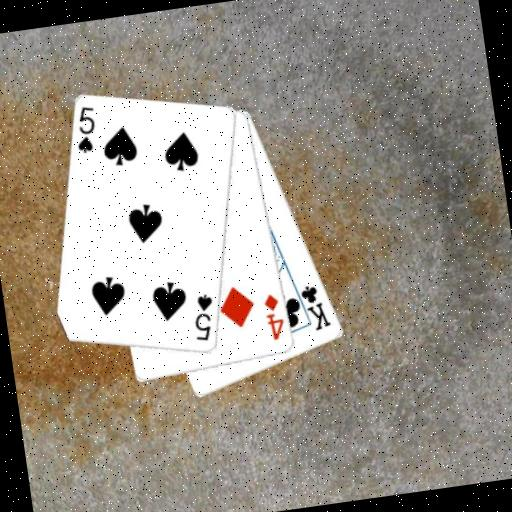4D: (261, 290, 288, 343)
5S: (188, 291, 220, 345), (69, 103, 101, 157)
KC: (290, 278, 334, 335)
